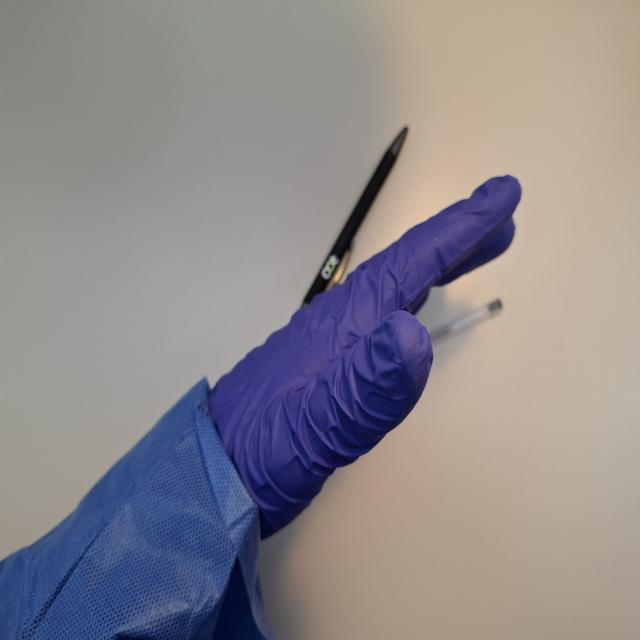glove_on: (196, 170, 524, 550)
